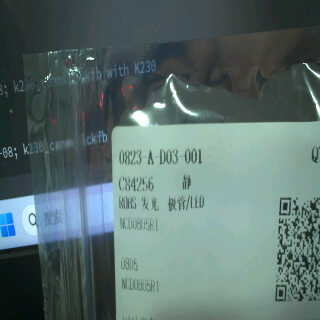LED: (139, 191, 208, 213)
